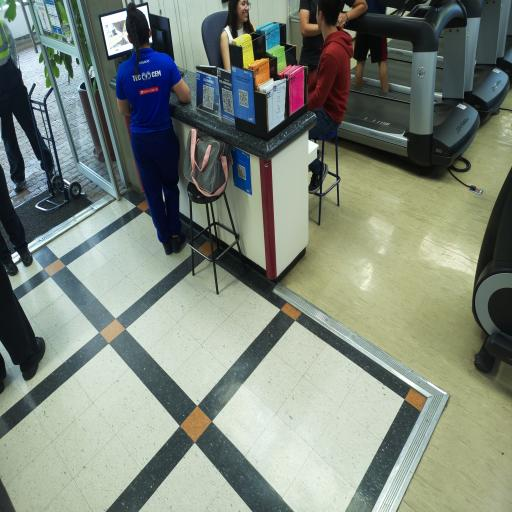person: (117, 4, 190, 254), (0, 20, 53, 192), (308, 0, 353, 138), (0, 268, 45, 380), (0, 166, 32, 266), (221, 0, 255, 70), (354, 33, 388, 92), (300, 0, 323, 75)
